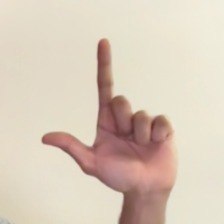L: (34, 30, 204, 208)
